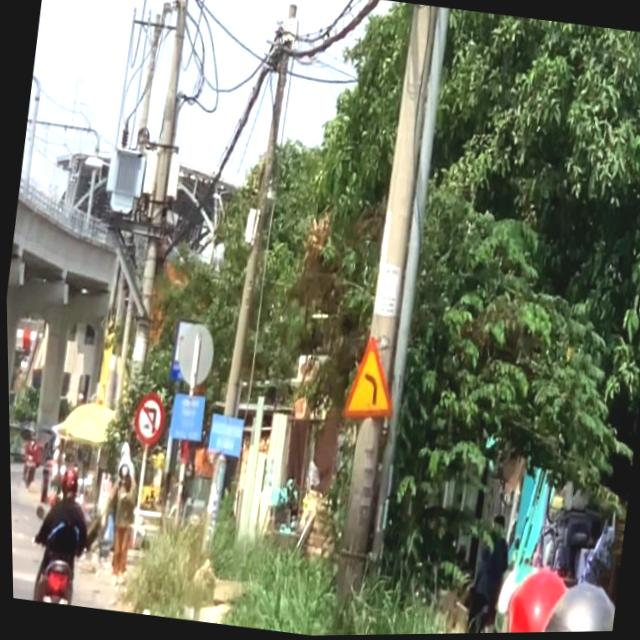cho ngoat nguy hiem vong ben trai: (334, 331, 404, 429)
